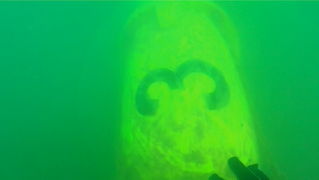3: (135, 58, 230, 116)
pipe: (122, 1, 262, 179)
